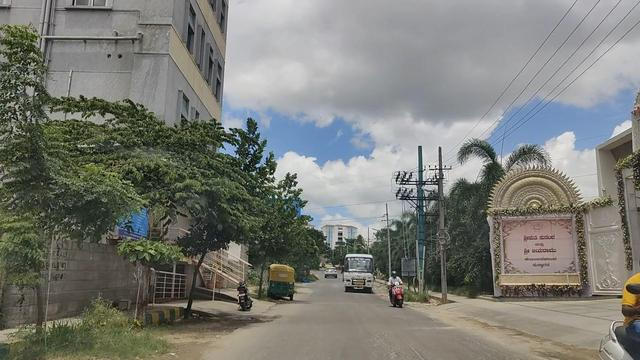HMV: (341, 250, 380, 296)
RoadDamages: (227, 311, 265, 325)
